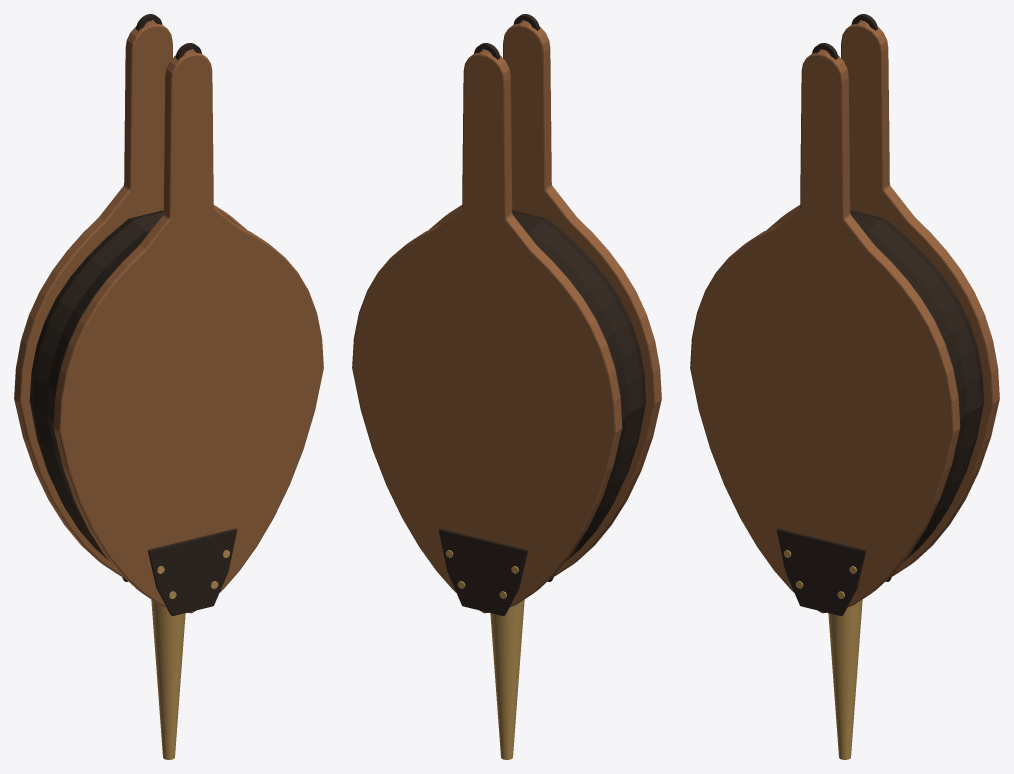
Rendered from full.glb.
The picture shows the model from 3 angles, left to right: view 1: azimuth 30°, elevation 25°; view 2: azimuth 150°, elevation 25°; view 3: azimuth 330°, elevation 25°; orthographic projection.
Visible parts, largest first — view 1: Wood board and handle -0.023, Wood board and handle 0.023, Folded leather gusset, Nozzle end leather cover -0.027, Long tapered open brass nozzle; view 2: Wood board and handle 0.023, Wood board and handle -0.023, Folded leather gusset, Nozzle end leather cover 0.027, Long tapered open brass nozzle; view 3: Wood board and handle -0.023, Wood board and handle 0.023, Folded leather gusset, Nozzle end leather cover -0.027, Long tapered open brass nozzle.
Boxes of the visible parts, <box> form: Wood board and handle -0.023: <box>53,49,323,613</box>; Wood board and handle 0.023: <box>14,20,246,577</box>; Folded leather gusset: <box>29,210,163,560</box>; Nozzle end leather cover -0.027: <box>147,528,237,615</box>; Long tapered open brass nozzle: <box>151,599,185,759</box>; Wood board and handle 0.023: <box>352,49,622,613</box>; Wood board and handle -0.023: <box>429,20,661,577</box>; Folded leather gusset: <box>512,210,646,560</box>; Nozzle end leather cover 0.027: <box>438,528,528,615</box>; Long tapered open brass nozzle: <box>490,599,524,759</box>; Wood board and handle -0.023: <box>690,49,960,613</box>; Wood board and handle 0.023: <box>767,20,999,577</box>; Folded leather gusset: <box>850,210,984,560</box>; Nozzle end leather cover -0.027: <box>776,528,866,615</box>; Long tapered open brass nozzle: <box>828,599,862,759</box>.
Size of the model in its own units: 0.1778 by 0.467 by 0.0582.
